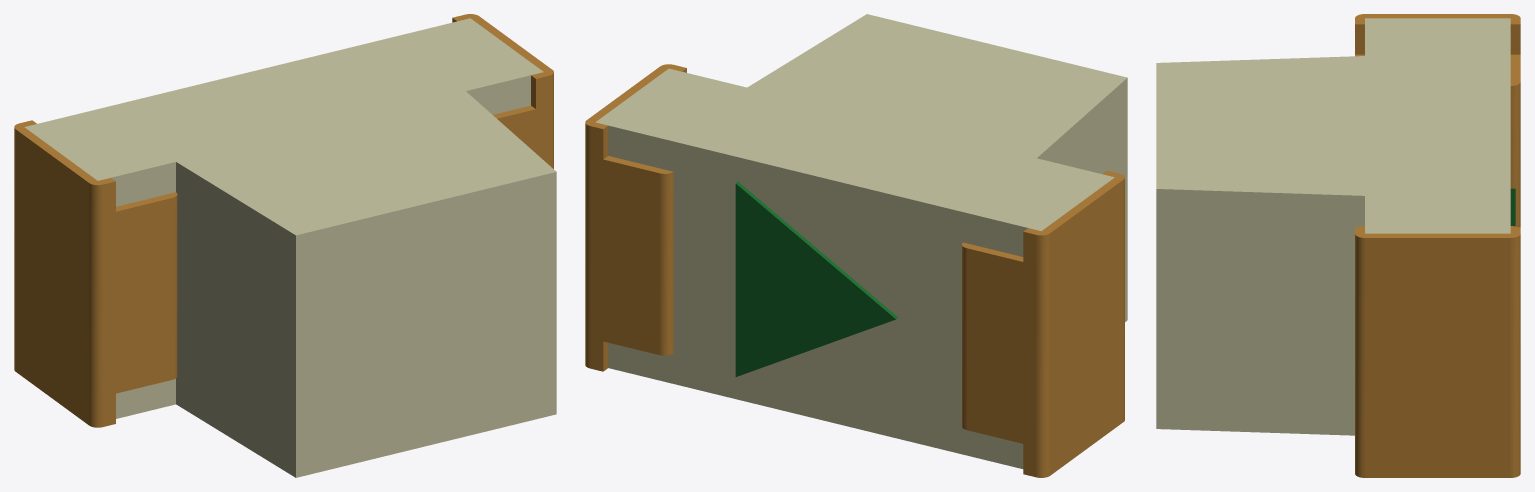
Rendered from led_0603_1608metric.glb.
3 views of the same model, side by side, from view 1: azimuth 30°, elevation 25°; view 2: azimuth 150°, elevation 25°; view 3: azimuth 270°, elevation 25° (orthographic).
Visible parts, largest first — view 1: LED_0603_1608Metric; view 2: LED_0603_1608Metric; view 3: LED_0603_1608Metric.
Boxes of the visible parts, box(x1,y1,x2,y2) form: LED_0603_1608Metric: box(14, 14, 556, 477); LED_0603_1608Metric: box(585, 14, 1127, 477); LED_0603_1608Metric: box(1156, 14, 1520, 477).
Size of the model in its own units: 1.6 by 0.8 by 1.1.
